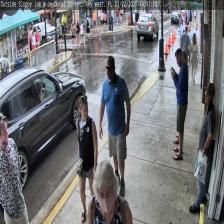person: (98, 55, 130, 199), (189, 81, 215, 213), (0, 112, 29, 224), (86, 159, 132, 223), (76, 95, 97, 221), (171, 48, 188, 159), (180, 25, 191, 66)
